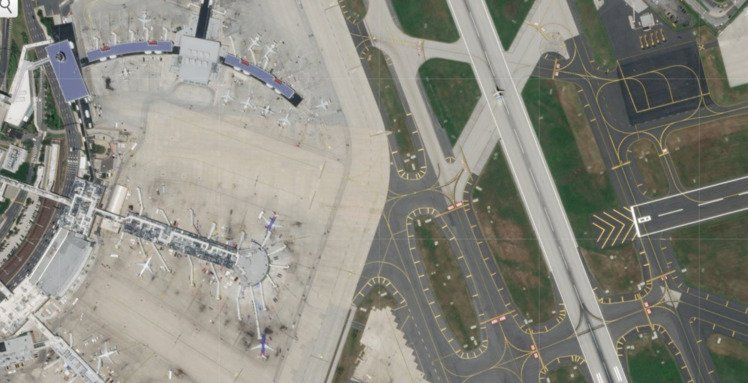aircraft: (247, 334, 275, 360), (261, 211, 285, 237), (96, 342, 119, 367), (136, 254, 154, 280), (248, 31, 264, 51), (239, 95, 254, 113), (259, 101, 273, 120), (137, 12, 152, 29), (220, 89, 235, 106), (316, 96, 329, 114), (278, 112, 291, 129), (492, 86, 505, 101), (267, 40, 281, 53)
